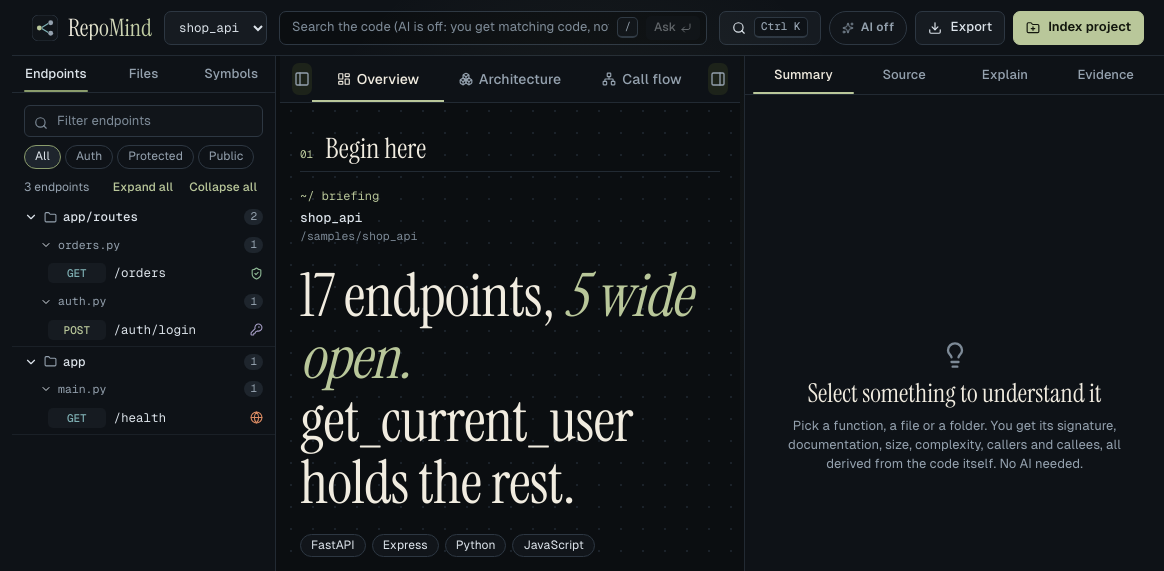
Test case: Call flow › renders rich nodes: signature, docs and metrics
Click the text "/auth/login" at (155, 329), box top-left (114, 321), bottom-right (196, 338)
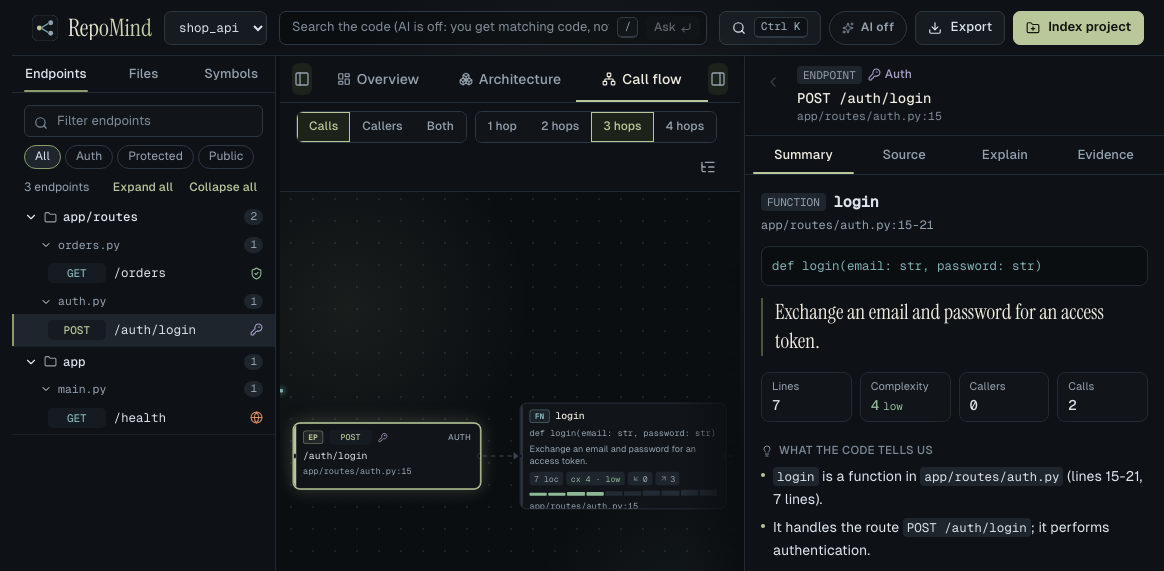
Expected: the text "def login(email: str, password: str)" below "FN" is shown, top-left (530, 427), bottom-right (716, 438)
Expected: the text "Exchange an email and password for an access token." below "FN" is shown, top-left (530, 443), bottom-right (696, 466)
Expected: the text "cx 4 · low" is shown, top-left (566, 471), bottom-right (625, 485)
